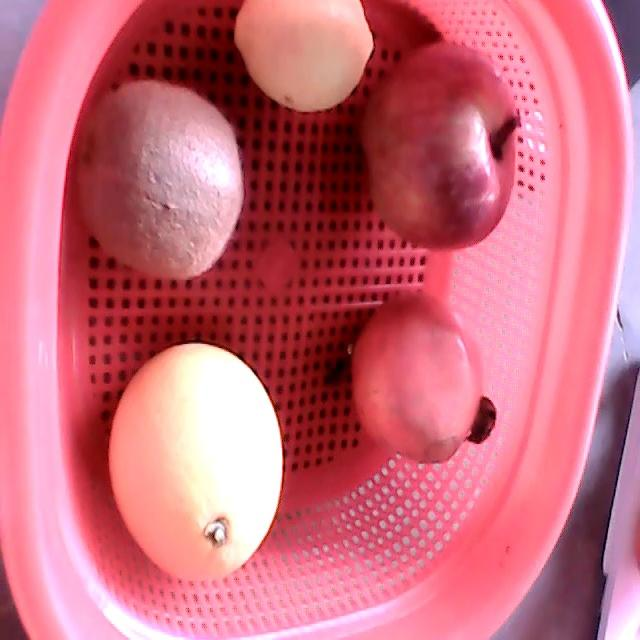apple: (354, 39, 519, 252)
kiwi: (75, 77, 244, 280)
lemon: (234, 0, 374, 111)
orange: (108, 343, 283, 582)
pomegranate: (351, 289, 497, 463)
